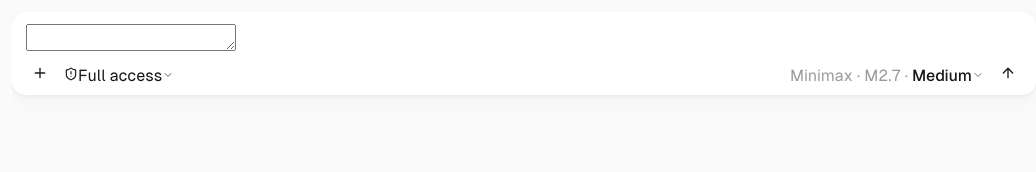
Test: Composer › @ inserts an inline mention token without creating an attachment card
Type "@" into the text box named "message" at (131, 38), box x1=26 y1=24 x2=236 y2=51
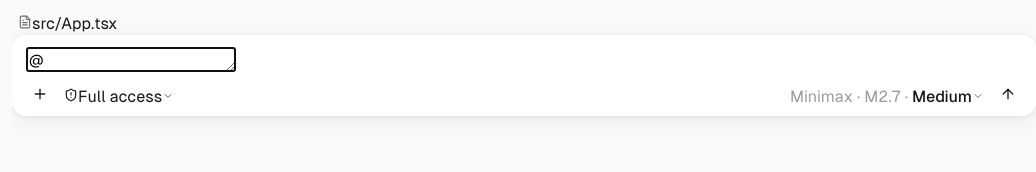
Click the option "src/App.tsx" at (68, 24), box x1=12 y1=12 x2=124 y2=35
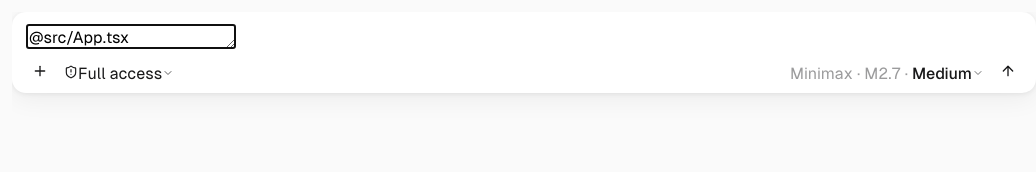
Expected: the text box named "message" holds "@src/App.tsx ", x1=26 y1=24 x2=236 y2=49
